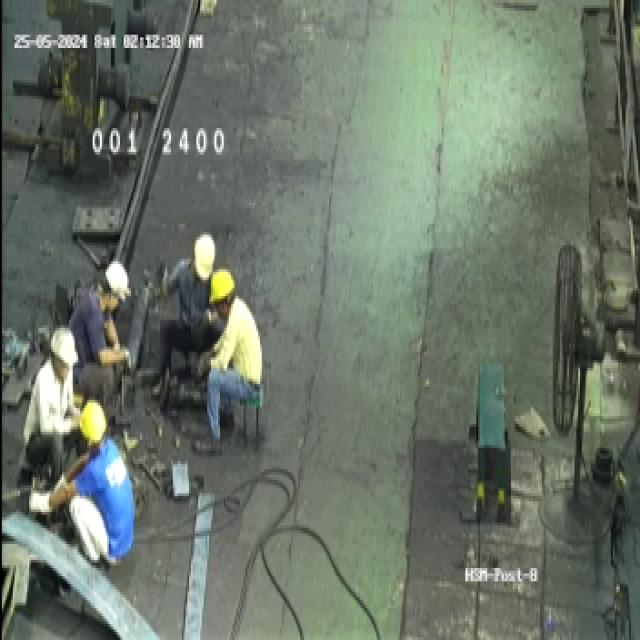safety-glove: (145, 252, 175, 320), (184, 310, 215, 360), (21, 482, 57, 519), (35, 470, 72, 504), (191, 340, 215, 388), (110, 336, 128, 390), (119, 342, 141, 385)
safety-helmet: (34, 322, 78, 390), (92, 249, 136, 315), (204, 253, 244, 325), (178, 226, 215, 298), (70, 394, 112, 454)
safety-shoes: (186, 429, 227, 463), (205, 405, 240, 442)
